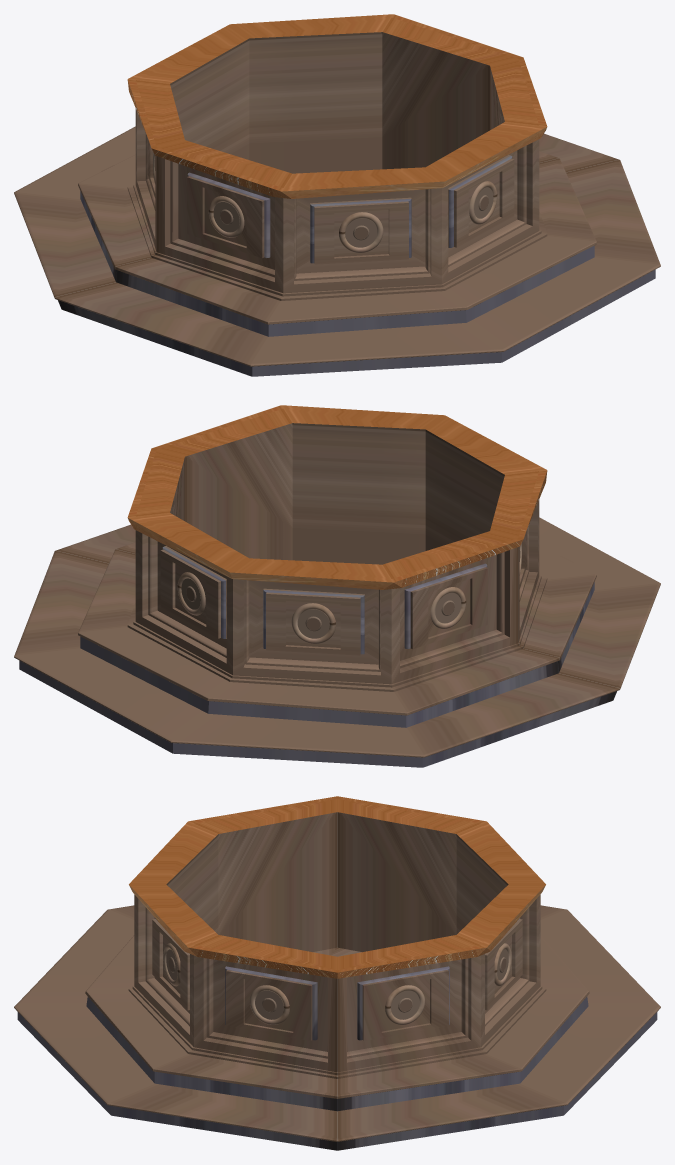
Rendered from Deck_2.fbx.
3 renders of one model, top to bottom at view 1: azimuth 30°, elevation 25°; view 2: azimuth 150°, elevation 25°; view 3: azimuth 270°, elevation 25°, orthographic. The views are drawn at different scales.
Parts seen in each view (by area): view 1: Cylinder; view 2: Cylinder; view 3: Cylinder.
Part boxes in pixels (left/top/right/bottom): Cylinder: left=14, top=14, right=660, bottom=376; Cylinder: left=14, top=405, right=660, bottom=767; Cylinder: left=14, top=796, right=660, bottom=1150.
Bounding box in the file's own units: 1012 × 238 × 1032.
